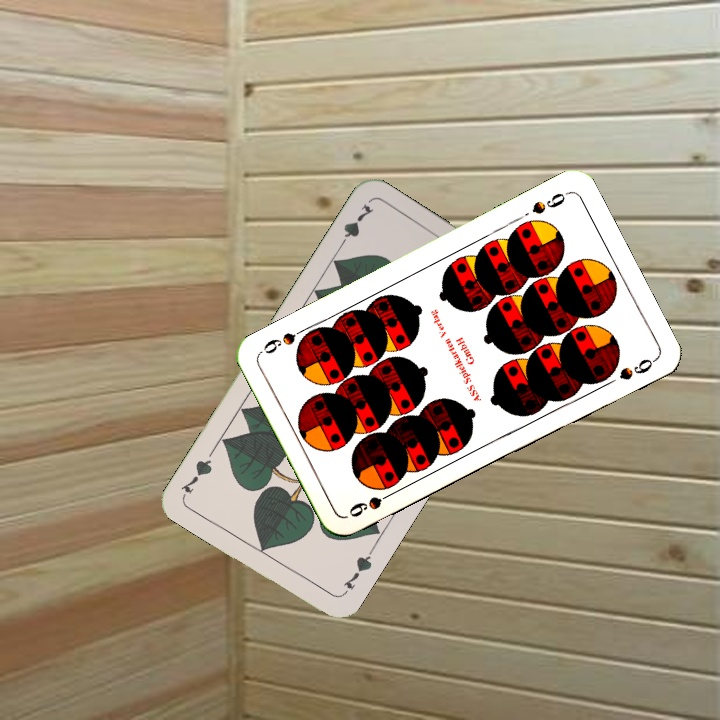G7: (334, 200, 377, 252), (338, 546, 376, 598)
S9: (344, 486, 399, 520), (528, 187, 571, 217)
